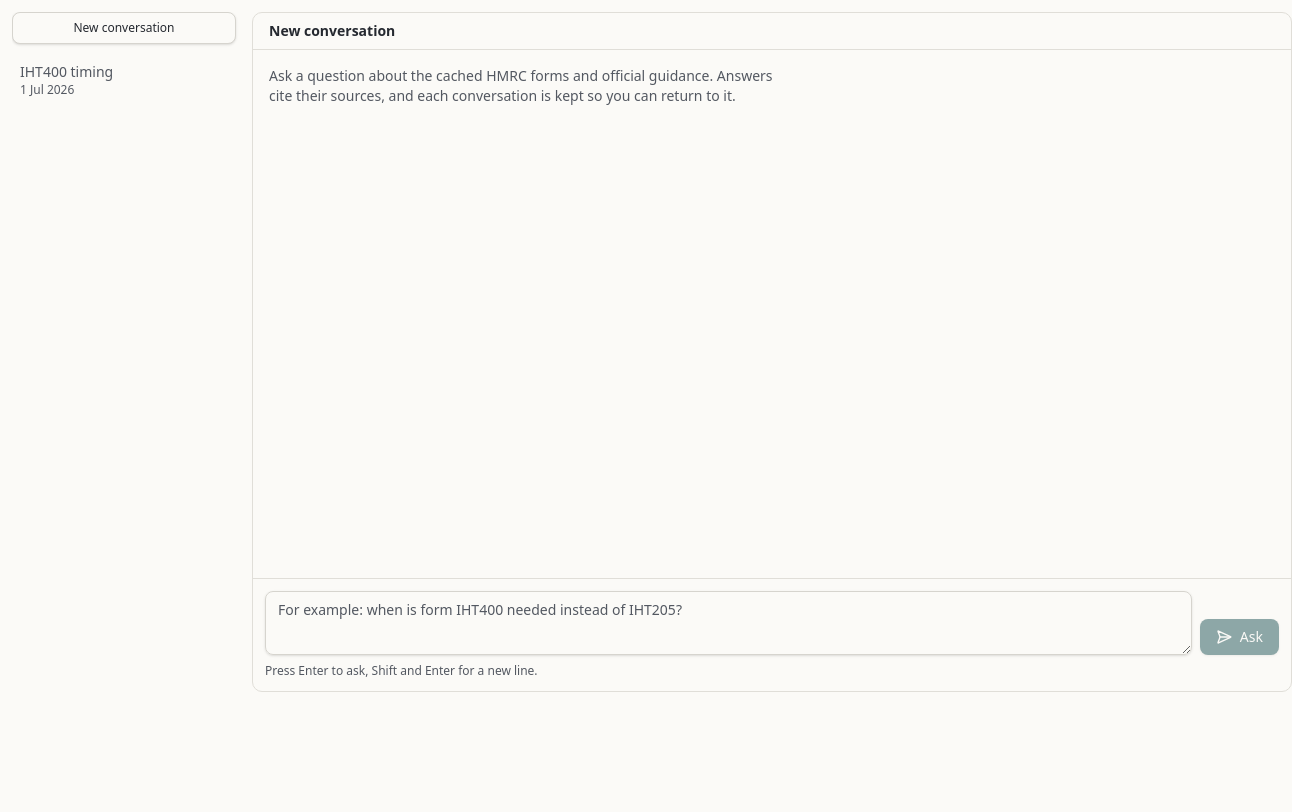
Test: AskSection › renders a loaded thread with message-scoped citation links
What coordinates should you click on to do the following:
click the button "IHT400 timing 1 Jul 2026"
I would click on:
 (124, 80)
Its box is [12,56,236,104].
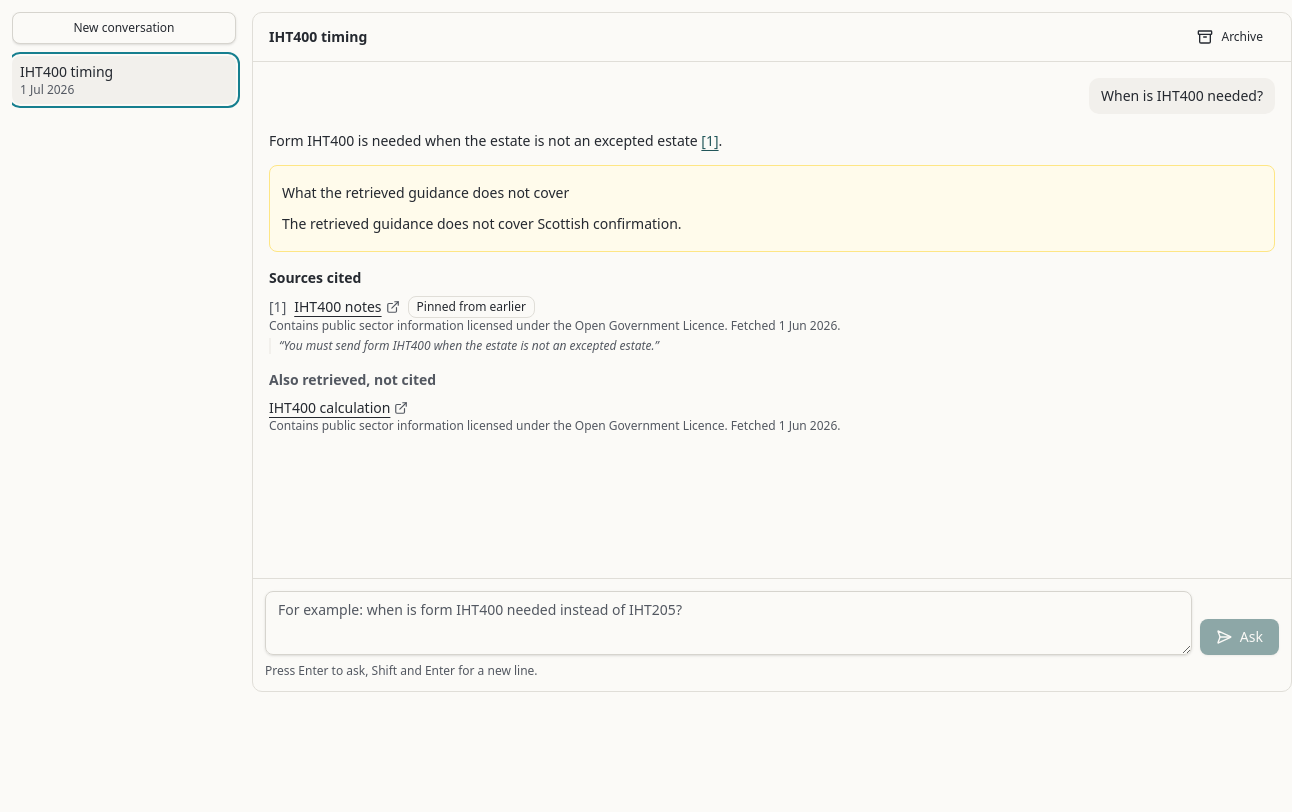
Check: the text "When is IHT400 needed?" is shown, box [1089,78,1275,114]
Check: the text "Form IHT400 is needed when the estate" is shown, box [269,131,701,150]
Check: the text "The retrieved guidance does not cover Scottish confirmation." is shown, box [282,214,682,232]
